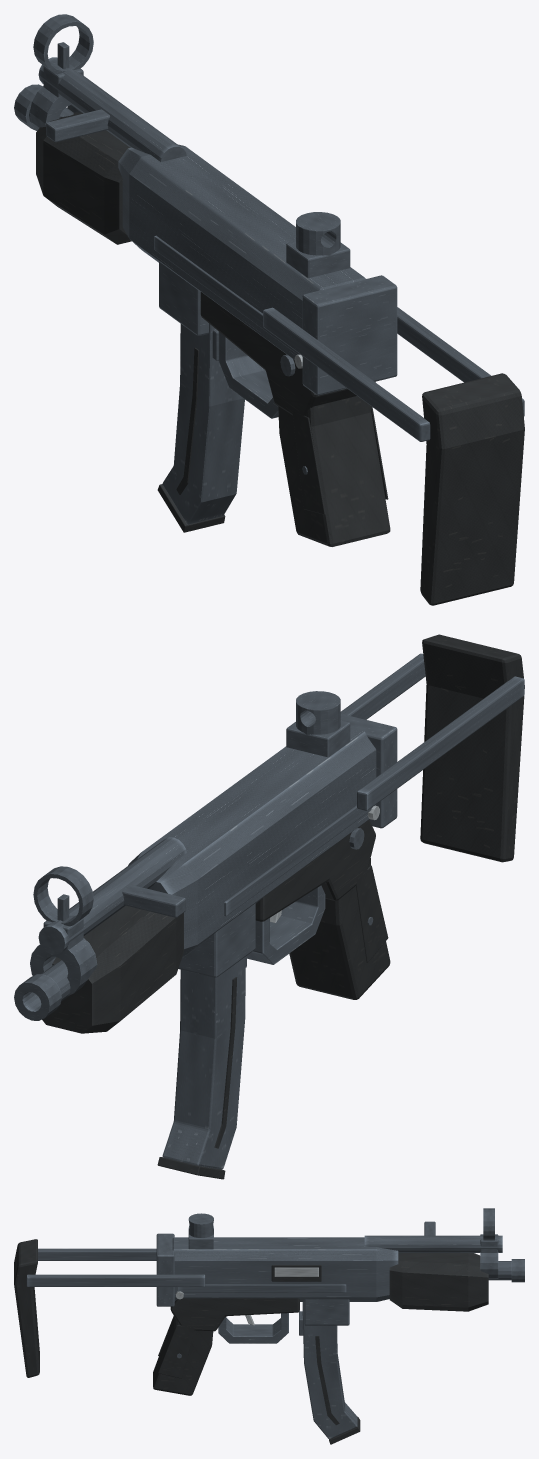
The picture shows the model from 3 angles, top to bottom: view 1: azimuth 30°, elevation 25°; view 2: azimuth 150°, elevation 25°; view 3: azimuth 270°, elevation 25°; orthographic projection. The views are drawn at different scales.
Parts seen in each view (by area): view 1: mp5_Body, mp5_Magazine, mp5_ChargingHandle; view 2: mp5_Body, mp5_Magazine, mp5_ChargingHandle; view 3: mp5_Body, mp5_Magazine, mp5_Bolt.
Part boxes in pixels (box(x1,y1,x2,y2)): mp5_Body: box(14, 14, 524, 605); mp5_Magazine: box(157, 323, 244, 532); mp5_ChargingHandle: box(46, 109, 109, 142); mp5_Body: box(14, 634, 524, 1033); mp5_Magazine: box(157, 956, 245, 1179); mp5_ChargingHandle: box(122, 884, 185, 917); mp5_Body: box(14, 1208, 524, 1395); mp5_Magazine: box(302, 1302, 360, 1444); mp5_Bolt: box(274, 1267, 318, 1276).
Size of the model in its own units: 0.151 by 0.4966 by 1.
Materials: 3 (3 with a texture image).
